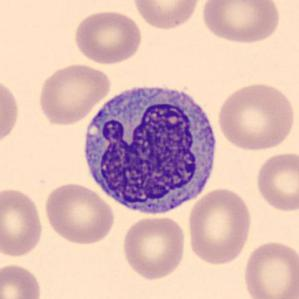Monocyte: (76, 75, 224, 222)
RBC: (214, 80, 296, 152), (185, 186, 254, 266), (36, 61, 113, 127), (42, 180, 116, 246), (120, 213, 188, 281), (72, 7, 144, 66), (199, 0, 282, 45), (240, 238, 298, 299), (0, 185, 46, 259), (253, 150, 298, 213), (130, 0, 202, 31), (0, 261, 44, 299), (0, 74, 21, 149)
